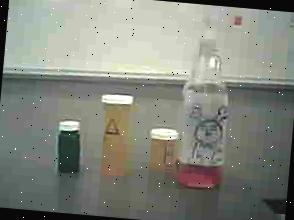Bottle A: (86, 87, 146, 180)
Bottle B: (140, 119, 182, 178)
Bottle C: (47, 115, 92, 178)
hazard: (170, 3, 247, 197)
